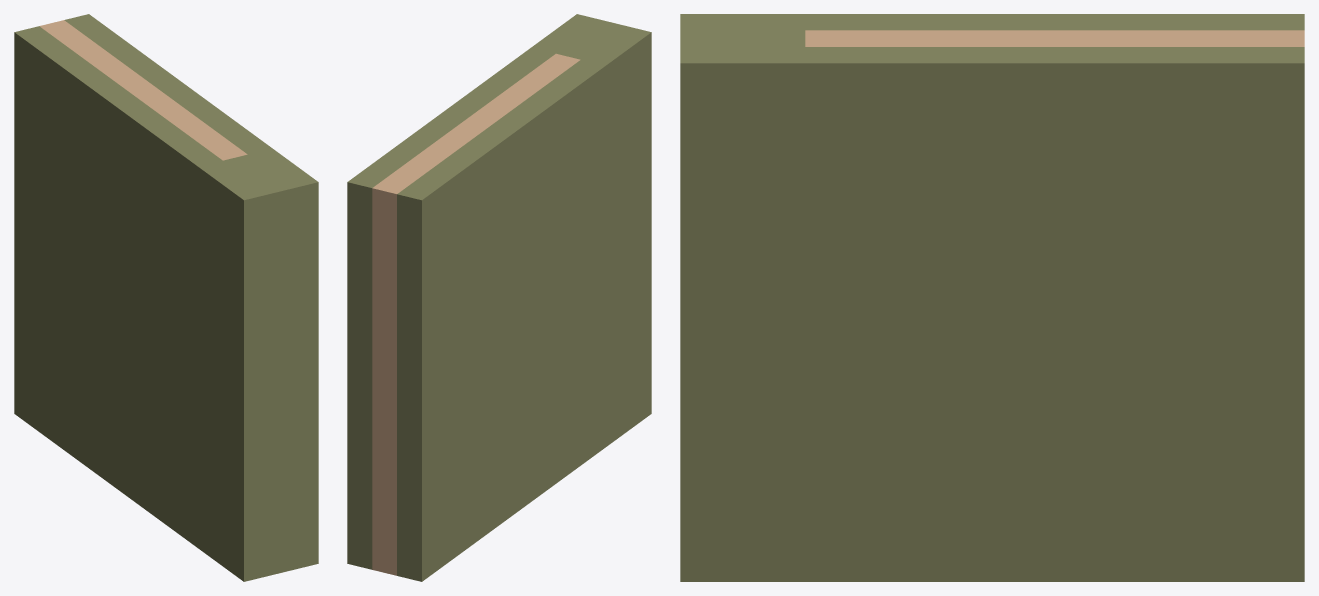
The model's file is livre7.fbx.
The picture shows the model from 3 angles, left to right: view 1: azimuth 30°, elevation 25°; view 2: azimuth 150°, elevation 25°; view 3: azimuth 270°, elevation 25°; orthographic projection. The views are drawn at different scales.
Visible parts, largest first — view 1: Livre 7; view 2: Livre 7; view 3: Livre 7.
Boxes of the visible parts, x1,y1,x2,y2 form: Livre 7: (14, 14, 318, 581); Livre 7: (347, 14, 651, 581); Livre 7: (680, 14, 1304, 581).
Bounding box in the file's own units: 4.5 × 22 × 24.
1 material, 1 textured.
